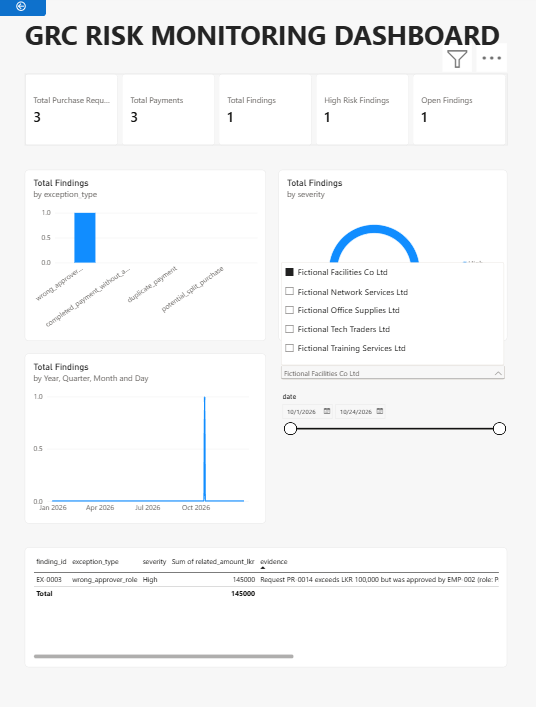

Layout of this report page (visuals, bound fields, positions):
{"tool":"powerbi","page":{"name":"Page 1","canvas":[1080,1920],"ordinal":0},"visuals":[{"type":"cardVisual","fields":{"Data":["DimDates.Total Purchase Requests","DimDates.Total Payments","DimDates.Total Findings","DimDates.High Risk Findings","DimDates.Open Findings"]},"box":[57.5,155,965,145],"z":0},{"type":"clusteredColumnChart","fields":{"Category":["FactExceptions.exception_type"],"Y":["DimDates.Total Findings"]},"box":[57.5,347.5,482.5,342.5],"z":1000},{"type":"donutChart","fields":{"Category":["FactExceptions.severity"],"Y":["DimDates.Total Findings"]},"box":[565,347.5,457.5,342.5],"z":2000},{"type":"lineChart","fields":{"Category":["DimDates.date.Variation.Date Hierarchy.Year","DimDates.date.Variation.Date Hierarchy.Quarter","DimDates.date.Variation.Date Hierarchy.Month","DimDates.date.Variation.Date Hierarchy.Day"],"Y":["DimDates.Total Findings"]},"box":[57.5,715,482.5,340],"z":3000},{"type":"tableEx","fields":{"Values":["FactExceptions.finding_id","FactExceptions.exception_type","FactExceptions.severity","Sum(FactExceptions.related_amount_lkr)","FactExceptions.evidence","FactExceptions.recommended_action","FactExceptions.event_date"]},"box":[57.5,1102.5,965,240],"z":4000},{"type":"actionButton","box":[0,0,100,40],"z":5000},{"type":"slicer","fields":{"Values":["DimSuppliers.supplier_name"]},"box":[565,715,457.5,72.5],"z":6000},{"type":"textbox","box":[57.5,40,965,77.5],"z":7000},{"type":"slicer","fields":{"Values":["DimDates.date"]},"box":[565,792.5,457.5,262.5],"z":8000}]}

Visuals, with their boxes on the page's 1080x1920 design canvas (x1, y1, x2, y2). These are canvas units, not pixel positions in the 536x707 screenshot, which may show the page scaled, cropped or inside an application window:
cardVisual - DimDates.Total Purchase Requests x DimDates.Total Payments: bbox=[58, 155, 1022, 300]
clusteredColumnChart - FactExceptions.exception_type x DimDates.Total Findings: bbox=[58, 348, 540, 690]
donutChart - FactExceptions.severity x DimDates.Total Findings: bbox=[565, 348, 1022, 690]
lineChart - DimDates.date.Variation.Date Hierarchy.Year x DimDates.date.Variation.Date Hierarchy.Quarter: bbox=[58, 715, 540, 1055]
tableEx - FactExceptions.finding_id x FactExceptions.exception_type: bbox=[58, 1102, 1022, 1342]
actionButton: bbox=[0, 0, 100, 40]
slicer - DimSuppliers.supplier_name: bbox=[565, 715, 1022, 788]
textbox: bbox=[58, 40, 1022, 118]
slicer - DimDates.date: bbox=[565, 792, 1022, 1055]
